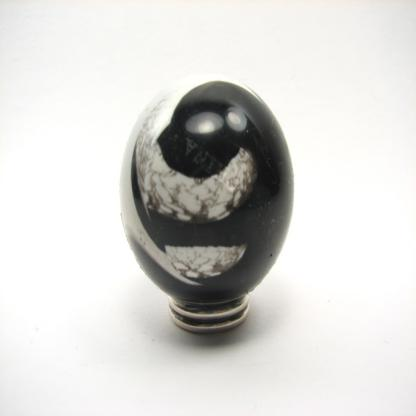Ball: (122, 73, 294, 306)
